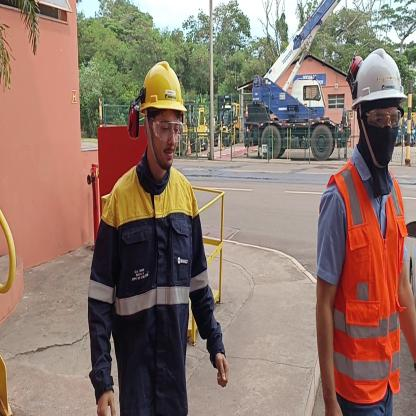Balaclava: (353, 103, 399, 194)
C_eletrica: (94, 167, 226, 390)
Capacete: (348, 45, 407, 100), (137, 57, 190, 116)
colete: (313, 160, 410, 401)
